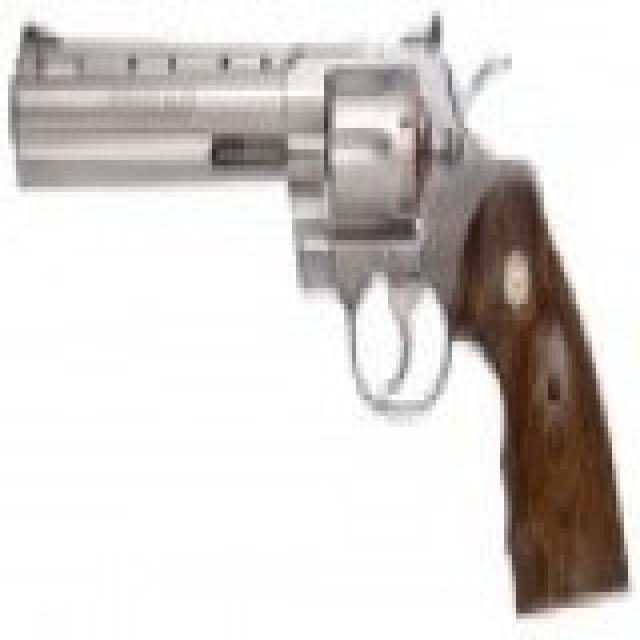Gun: (7, 10, 626, 594)
